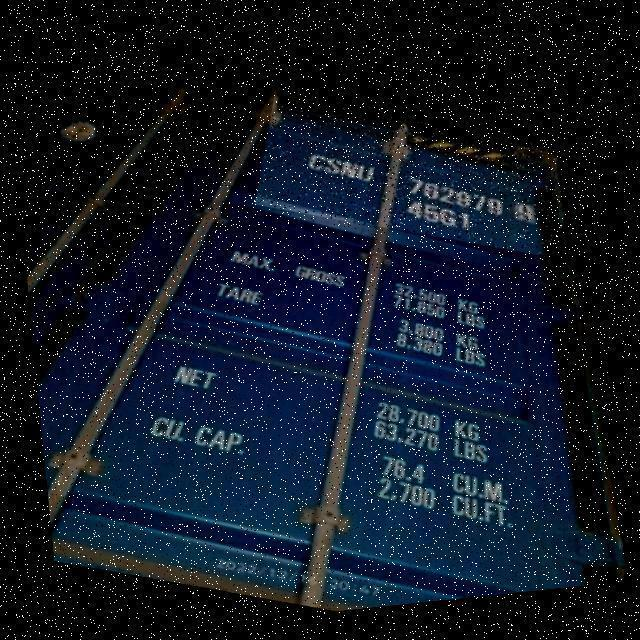ISO: (412, 196, 464, 233)
container_number: (303, 142, 541, 232)
